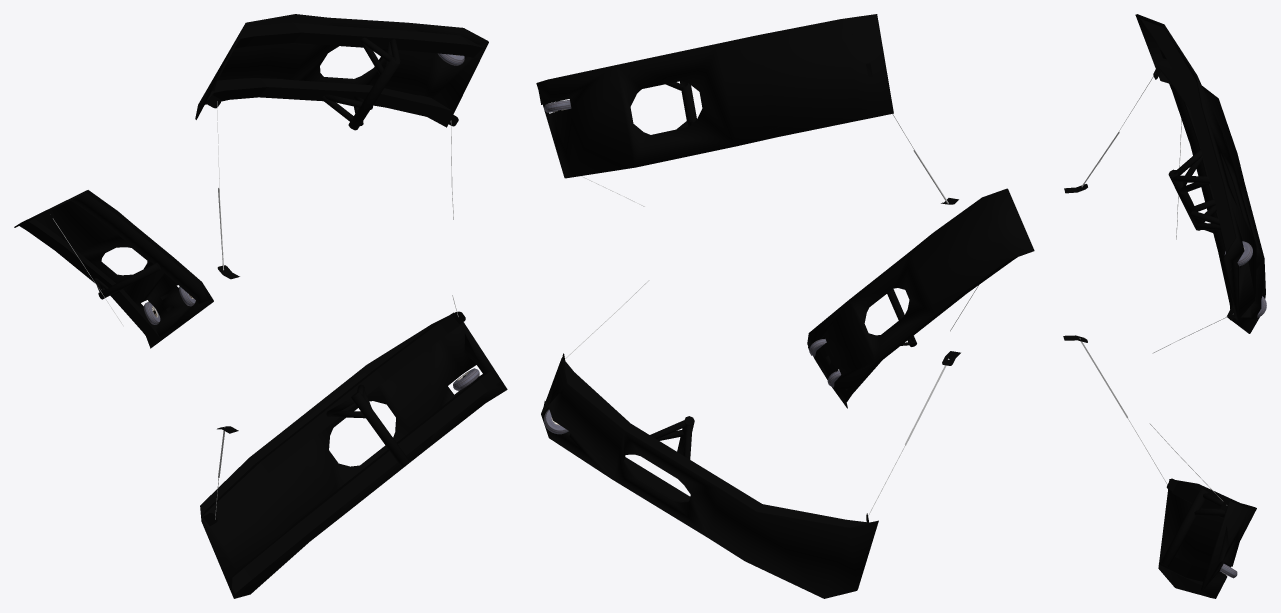
The model's file is c1720-ski-damage.gltf.
The picture shows the model from 3 angles, left to right: view 1: azimuth 30°, elevation 25°; view 2: azimuth 150°, elevation 25°; view 3: azimuth 270°, elevation 25°; orthographic projection. The views are drawn at different scales.
Parts seen in each view (by area): view 1: LeftSkid, RightSkid, NoseSkid, LeftSkiBraceLd, LeftSkiBraceRd, RightSkiBraceRd, RightSkiBraceLd, NoseSkiBraceRd, NoseSkiBraceLd, LeftSkiAxled, RightSkiAxled, RightSkiAxleBrd; view 2: RightSkid, LeftSkid, NoseSkid, LeftSkiBraceRd, LeftSkiBraceLd, NoseSkiBraceLd, LeftSkiAxleBrd; view 3: LeftSkid, RightSkid, RightSkiBraceRd, NoseSkid, NoseSkiBraceRd, LeftSkiAxled, RightSkiAxleBrd, LeftSkiBraceLd, RightSkiBraceLd, RightSkiAxleBld, LeftSkiBraceRd, RightSkiAxled (+1 smaller).
Part boxes in pixels (x1,y1,x2,y2): LeftSkid: [200, 312, 507, 598]; RightSkid: [195, 14, 488, 127]; NoseSkid: [14, 190, 213, 348]; LeftSkiBraceLd: [232, 372, 500, 593]; LeftSkiBraceRd: [202, 312, 461, 528]; RightSkiBraceRd: [234, 22, 482, 57]; RightSkiBraceLd: [206, 78, 454, 121]; NoseSkiBraceRd: [71, 192, 208, 303]; NoseSkiBraceLd: [19, 218, 159, 342]; LeftSkiAxled: [351, 391, 410, 467]; RightSkiAxled: [348, 57, 399, 130]; RightSkiAxleBrd: [360, 37, 400, 75]; RightSkid: [536, 14, 893, 178]; LeftSkid: [541, 357, 878, 598]; NoseSkid: [807, 188, 1034, 408]; LeftSkiBraceRd: [563, 359, 868, 526]; LeftSkiBraceLd: [544, 401, 828, 580]; NoseSkiBraceLd: [845, 257, 1017, 401]; LeftSkiAxleBrd: [650, 420, 692, 459]; LeftSkid: [1158, 479, 1256, 598]; RightSkid: [1135, 14, 1256, 320]; RightSkiBraceRd: [1141, 19, 1235, 270]; NoseSkid: [1184, 86, 1265, 333]; NoseSkiBraceRd: [1169, 83, 1235, 318]; LeftSkiAxled: [1160, 488, 1208, 567]; RightSkiAxleBrd: [1173, 149, 1210, 193]; LeftSkiBraceLd: [1159, 557, 1211, 584]; RightSkiBraceLd: [1157, 64, 1241, 312]; RightSkiAxleBld: [1190, 199, 1221, 230]; LeftSkiBraceRd: [1171, 481, 1235, 518]; RightSkiAxled: [1168, 169, 1201, 230].
Bounding box in the file's own units: 3.55 × 3.98 × 1.31.
